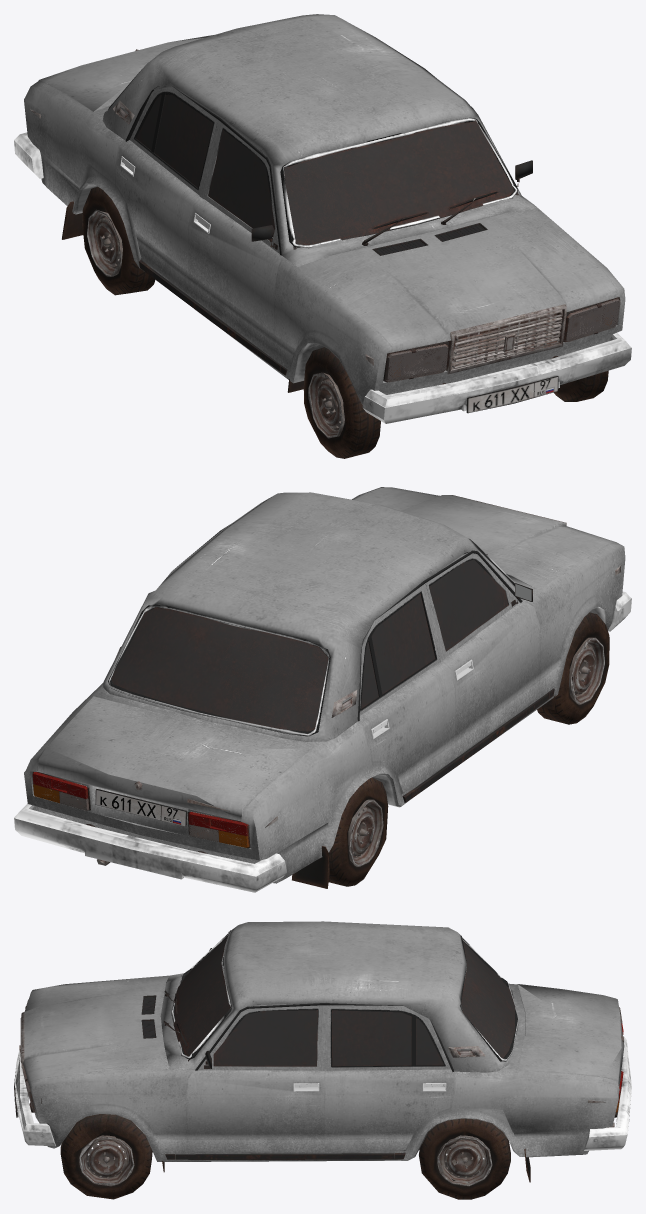
Rendered from v_vaz_hd.glb.
The picture shows the model from 3 angles, top to bottom: view 1: azimuth 30°, elevation 25°; view 2: azimuth 150°, elevation 25°; view 3: azimuth 270°, elevation 25°; orthographic projection. The views are drawn at different scales.
Visible parts, largest first — view 1: Car; view 2: Car; view 3: Car.
Part boxes in pixels (x1,y1,x2,y2): Car: (14, 14, 631, 458); Car: (14, 487, 631, 892); Car: (14, 921, 631, 1199).
Bounding box in the file's own units: 177 × 147 × 416.
6 materials, 6 textured.
